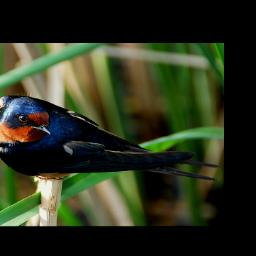Swallow: (0, 93, 220, 182)
